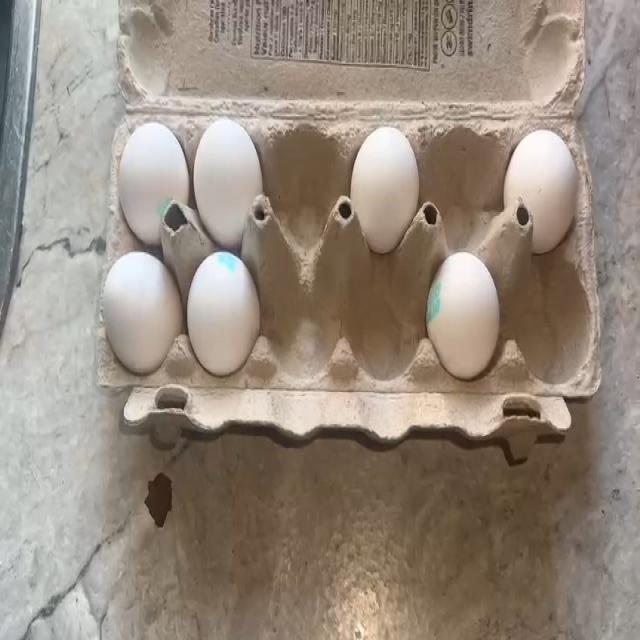Egg: (105, 254, 183, 376), (432, 254, 505, 364), (498, 121, 572, 226), (348, 119, 409, 239), (116, 116, 178, 224), (194, 112, 248, 228), (192, 260, 254, 360)
